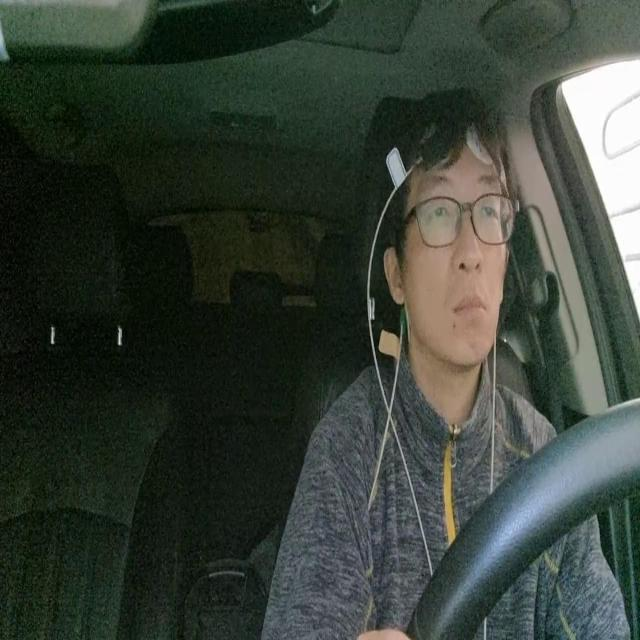Attentive: (382, 89, 508, 368)
